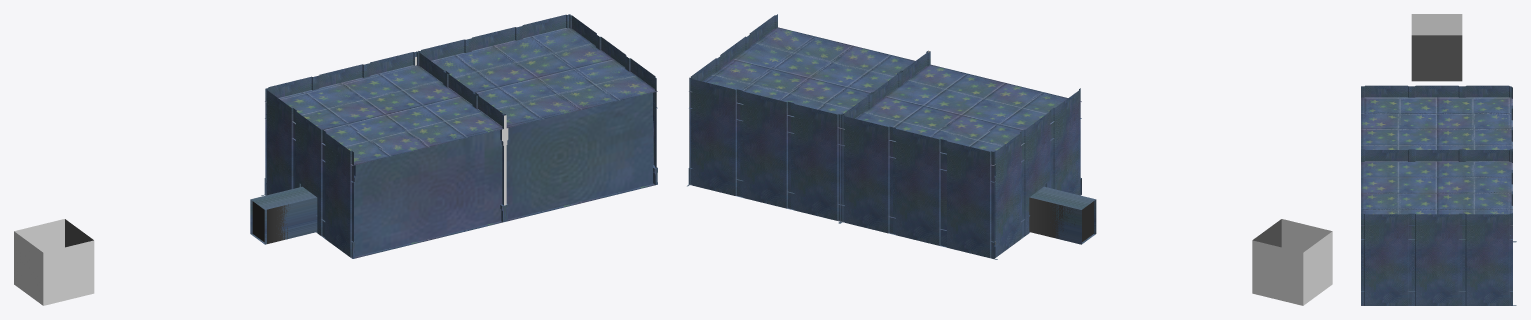
Rendered from las_12.dae.
3 views of the same model, side by side, from view 1: azimuth 30°, elevation 25°; view 2: azimuth 150°, elevation 25°; view 3: azimuth 270°, elevation 25° (orthographic). The views are drawn at different scales.
Parts seen in each view (by area): view 1: pCube4_q00011, pCube1_q00009, pCube1_q00231, polySurface204_q00000, pCube3_q00198, pCube3_q00197, pCube3_q00196, polySurface216_q00002, pCube3_q00184, pCube1_q00232, pCube3_q00186, pCube3_q00187 (+6 smaller); view 2: pCube1_q00231, pCube1_q00009, pCube3_q00187, pCube3_q00184, pCube3_q00182, pCube3_q00185, pCube3_q00183, pCube3_q00186, polySurface204_q00000, pCube3_q00198, pCube3_q00196, pCube3_q00197 (+4 smaller); view 3: pCube1_q00231, pCube1_q00009, pCube3_q00210, pCube3_q00208, pCube3_q00209, e_bero_1, polySurface204_q00000, pCube3_q00198, pCube3_q00197, pCube3_q00196, pCube3_q00225, pCube3_q00226 (+1 smaller).
Boxes of the visible parts, x1,y1,x2,y2 form: pCube4_q00011: (354, 93, 652, 256); pCube1_q00009: (280, 29, 649, 163); pCube1_q00231: (265, 28, 657, 165); polySurface204_q00000: (14, 219, 94, 305); pCube3_q00198: (250, 109, 325, 244); pCube3_q00197: (324, 131, 353, 257); pCube3_q00196: (266, 89, 294, 195); polySurface216_q00002: (252, 201, 289, 243); pCube3_q00184: (261, 76, 315, 195); pCube1_q00232: (351, 183, 655, 258); pCube3_q00186: (468, 26, 519, 52); pCube3_q00187: (519, 14, 570, 39); pCube1_q00231: (689, 27, 1081, 165); pCube1_q00009: (706, 29, 1058, 151); pCube3_q00187: (689, 77, 740, 196); pCube3_q00184: (943, 140, 997, 259); pCube3_q00182: (893, 127, 946, 247); pCube3_q00185: (791, 102, 841, 221); pCube3_q00183: (842, 115, 892, 233); pCube3_q00186: (740, 90, 790, 208); polySurface204_q00000: (1252, 219, 1332, 305); pCube3_q00198: (1022, 110, 1096, 244); pCube3_q00196: (993, 131, 1024, 257); pCube3_q00197: (1051, 88, 1080, 195); pCube1_q00231: (1361, 97, 1512, 225); pCube1_q00009: (1364, 98, 1509, 214); pCube3_q00210: (1411, 213, 1462, 305); pCube3_q00208: (1361, 213, 1411, 305); pCube3_q00209: (1462, 213, 1516, 305); e_bero_1: (1411, 35, 1462, 81); polySurface204_q00000: (1411, 14, 1462, 35); pCube3_q00198: (1411, 85, 1462, 97); pCube3_q00197: (1361, 85, 1411, 97); pCube3_q00196: (1462, 85, 1511, 97); pCube3_q00225: (1411, 150, 1462, 161); pCube3_q00226: (1361, 150, 1411, 161).
Bounding box in the file's own units: 115 × 20 × 30.75.
